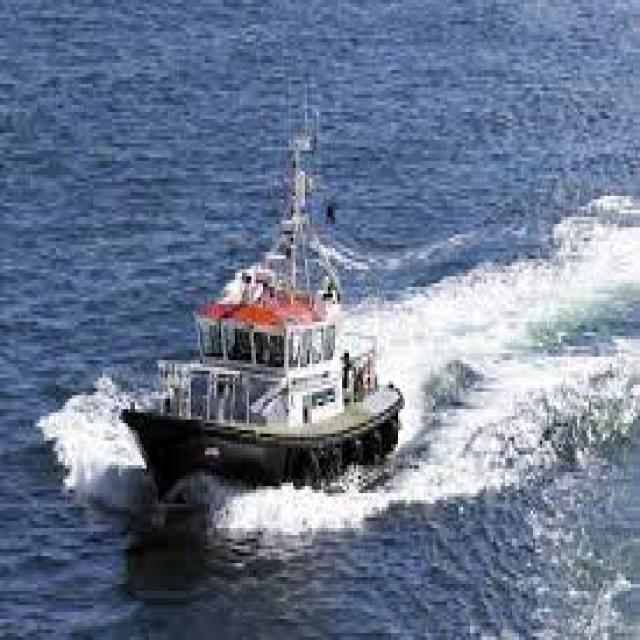houseboat: (117, 89, 404, 529)
